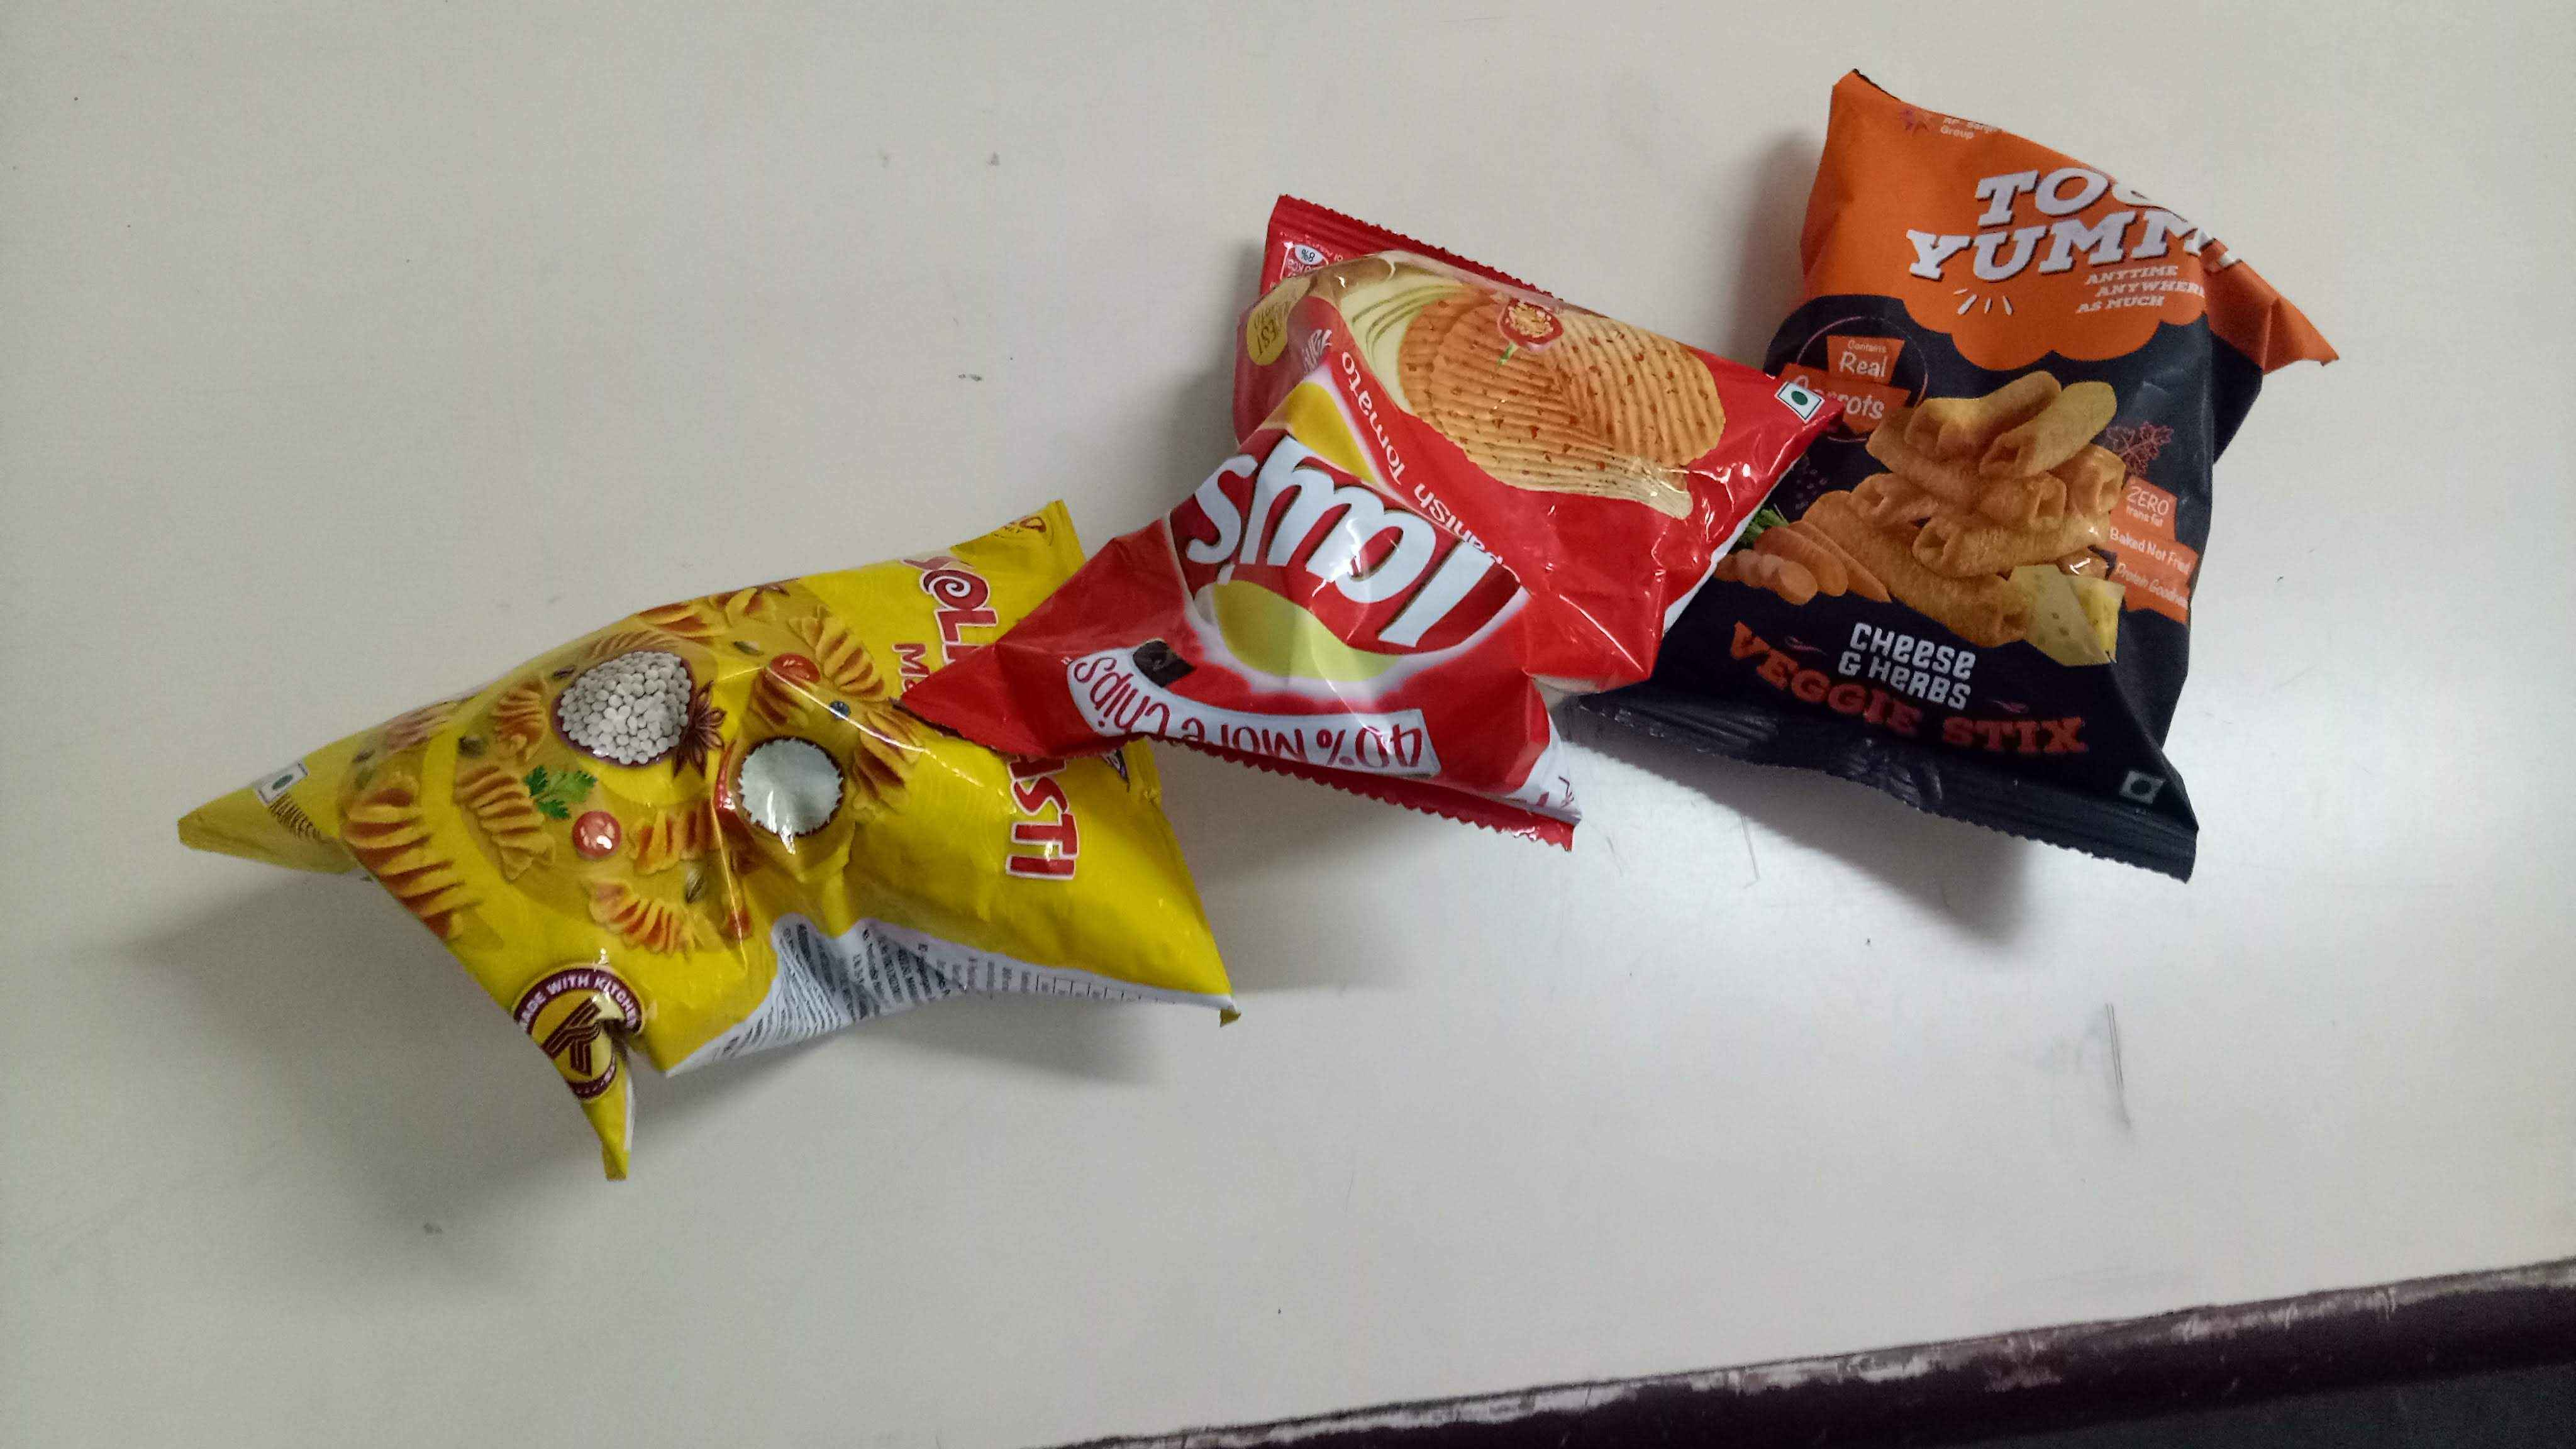Lays: (1184, 370, 1534, 736)
tooyumm: (1868, 154, 2235, 310)
